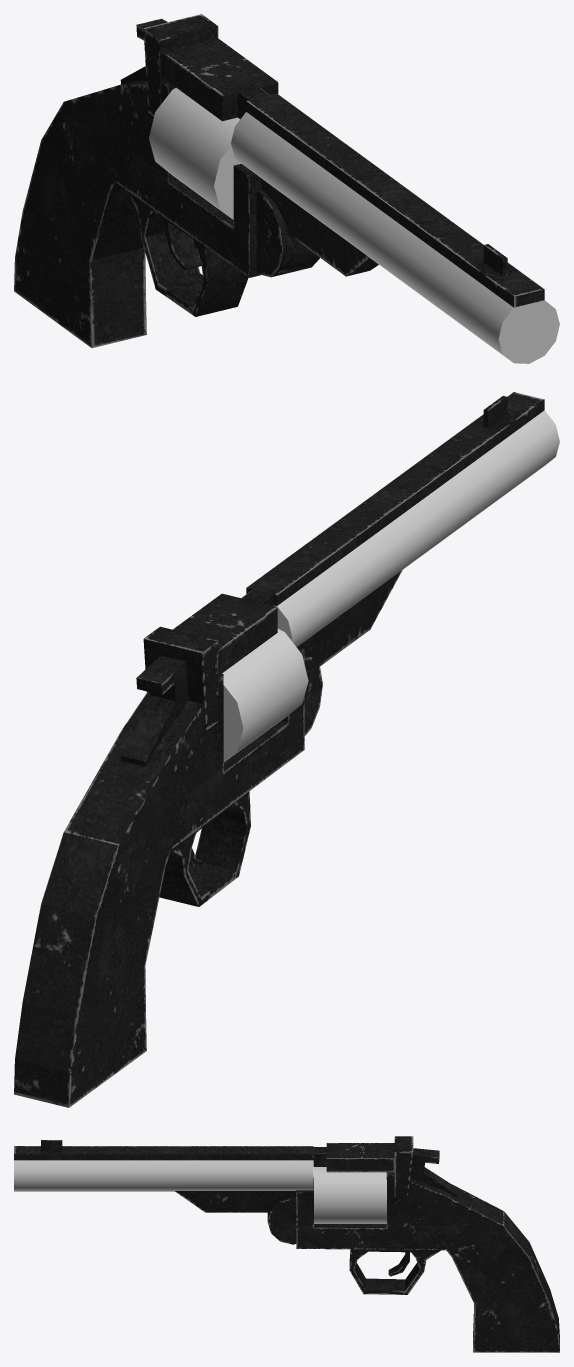
File: Gun_Free.fbx
The picture shows the model from 3 angles, top to bottom: view 1: azimuth 30°, elevation 25°; view 2: azimuth 150°, elevation 25°; view 3: azimuth 270°, elevation 25°; orthographic projection. The views are drawn at different scales.
Visible parts, largest first — view 1: Gun_Free.002, Gun_Free; view 2: Gun_Free.002, Gun_Free; view 3: Gun_Free.002, Gun_Free.
Boxes of the visible parts, x1,y1,x2,y2 form: Gun_Free.002: [14, 14, 544, 347]; Gun_Free: [149, 87, 559, 363]; Gun_Free.002: [14, 392, 544, 1107]; Gun_Free: [222, 410, 559, 762]; Gun_Free.002: [14, 1136, 559, 1352]; Gun_Free: [14, 1160, 386, 1223].
Bounding box in the file's own units: 4.14 × 15.29 × 36.98.
